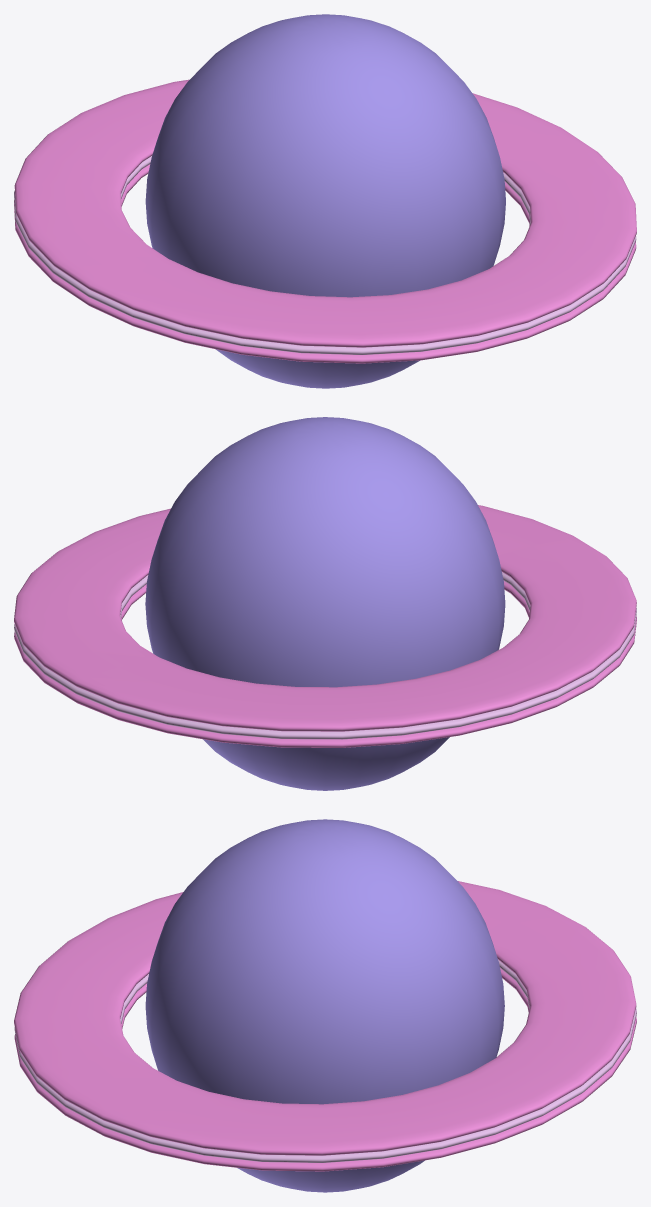
File: planet-3.gltf
3 renders of one model, top to bottom at view 1: azimuth 30°, elevation 25°; view 2: azimuth 150°, elevation 25°; view 3: azimuth 270°, elevation 25°, orthographic.
Parts seen in each view (by area): view 1: Sphere, Cylinder, Cylinder.002, Cylinder.001; view 2: Sphere, Cylinder, Cylinder.002, Cylinder.001; view 3: Sphere, Cylinder, Cylinder.002, Cylinder.001.
Boxes of the visible parts, x1=… form: Sphere: x1=145, y1=14, x2=505, y2=388; Cylinder: x1=14, y1=79, x2=636, y2=347; Cylinder.002: x1=14, y1=164, x2=636, y2=363; Cylinder.001: x1=14, y1=156, x2=636, y2=354; Sphere: x1=145, y1=417, x2=505, y2=790; Cylinder: x1=14, y1=505, x2=636, y2=731; Cylinder.002: x1=14, y1=581, x2=636, y2=747; Cylinder.001: x1=14, y1=572, x2=636, y2=739; Sphere: x1=145, y1=819, x2=504, y2=1192; Cylinder: x1=14, y1=881, x2=636, y2=1155; Cylinder.002: x1=14, y1=968, x2=636, y2=1171; Cylinder.001: x1=14, y1=959, x2=636, y2=1162.
Size of the model in its own units: 3.27 by 1.98 by 3.27.
